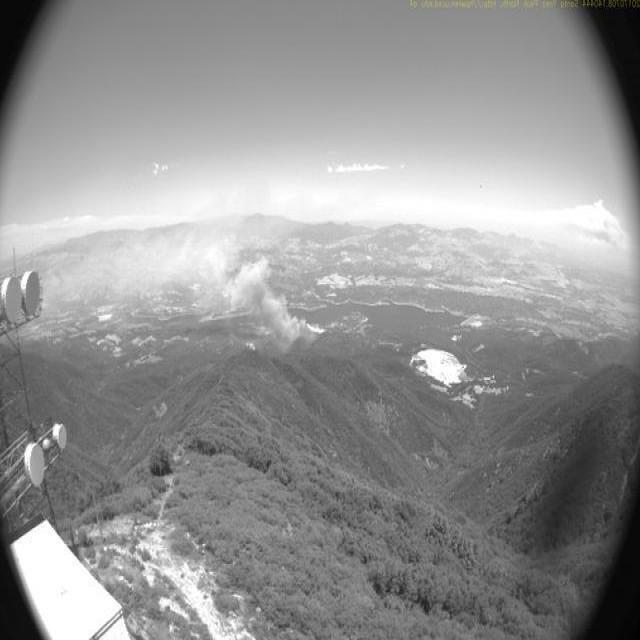Smoke: (92, 230, 326, 354)
